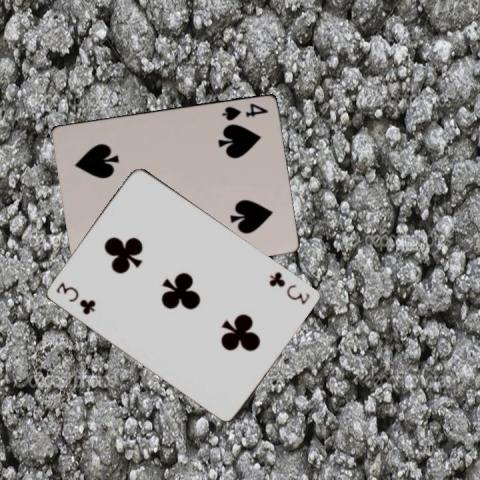3c: (266, 268, 312, 305), (54, 279, 98, 316)
4s: (219, 99, 270, 122)
